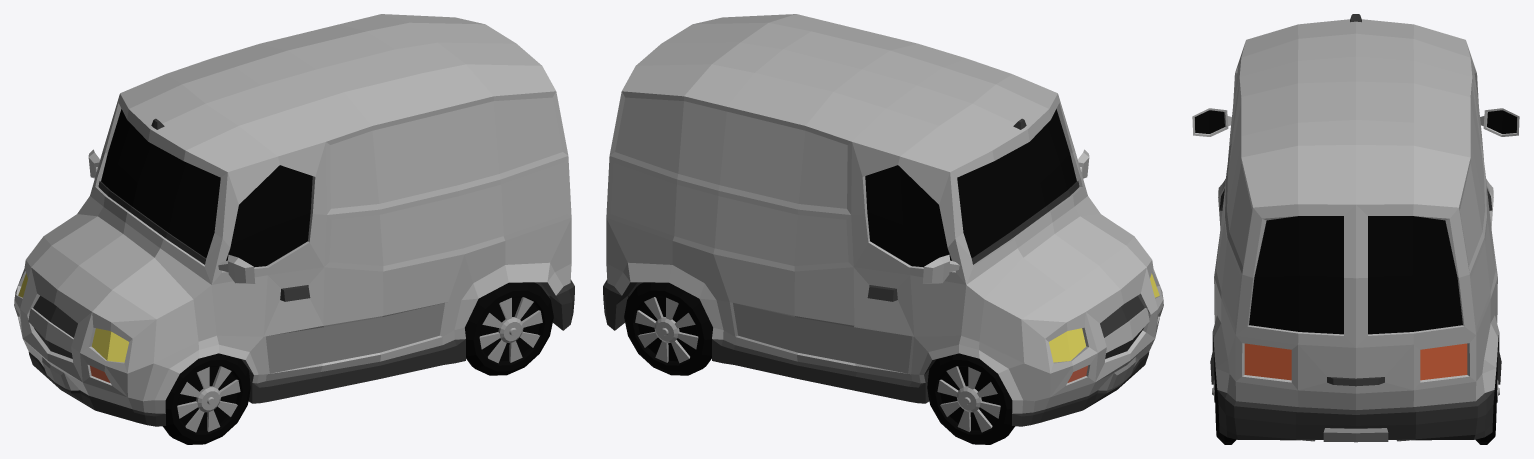
The model's file is scene_iiARzj0yyk.glb.
The picture shows the model from 3 angles, left to right: view 1: azimuth 30°, elevation 25°; view 2: azimuth 150°, elevation 25°; view 3: azimuth 270°, elevation 25°; orthographic projection.
Parts seen in each view (by area): view 1: Cube, wheel_back_left, wheel_front_left, mirrors; view 2: Cube, wheel_front_right.001, wheel_front_right, mirrors; view 3: Cube, mirrors, wheel_back_left, wheel_front_right.001.
Part boxes in pixels (x1,y1,x2,y2): Cube: [14, 14, 574, 426]; wheel_back_left: [465, 282, 553, 375]; wheel_front_left: [162, 353, 250, 444]; mirrors: [88, 149, 255, 283]; Cube: [603, 14, 1163, 426]; wheel_front_right.001: [624, 282, 712, 375]; wheel_front_right: [927, 353, 1015, 444]; mirrors: [922, 149, 1089, 283]; Cube: [1210, 14, 1501, 442]; mirrors: [1192, 108, 1519, 136]; wheel_back_left: [1212, 352, 1236, 444]; wheel_front_right.001: [1475, 352, 1499, 444].
Size of the model in its own units: 5.68 by 3.18 by 3.18.
